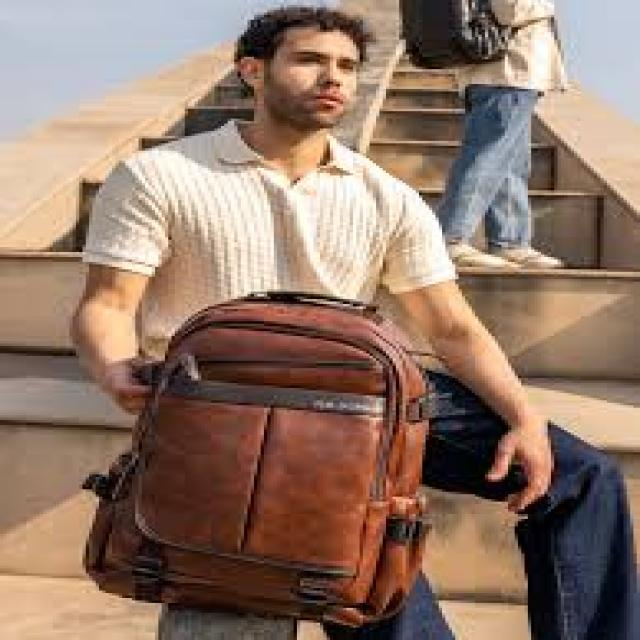backpack: (80, 290, 433, 629), (397, 1, 519, 70)
